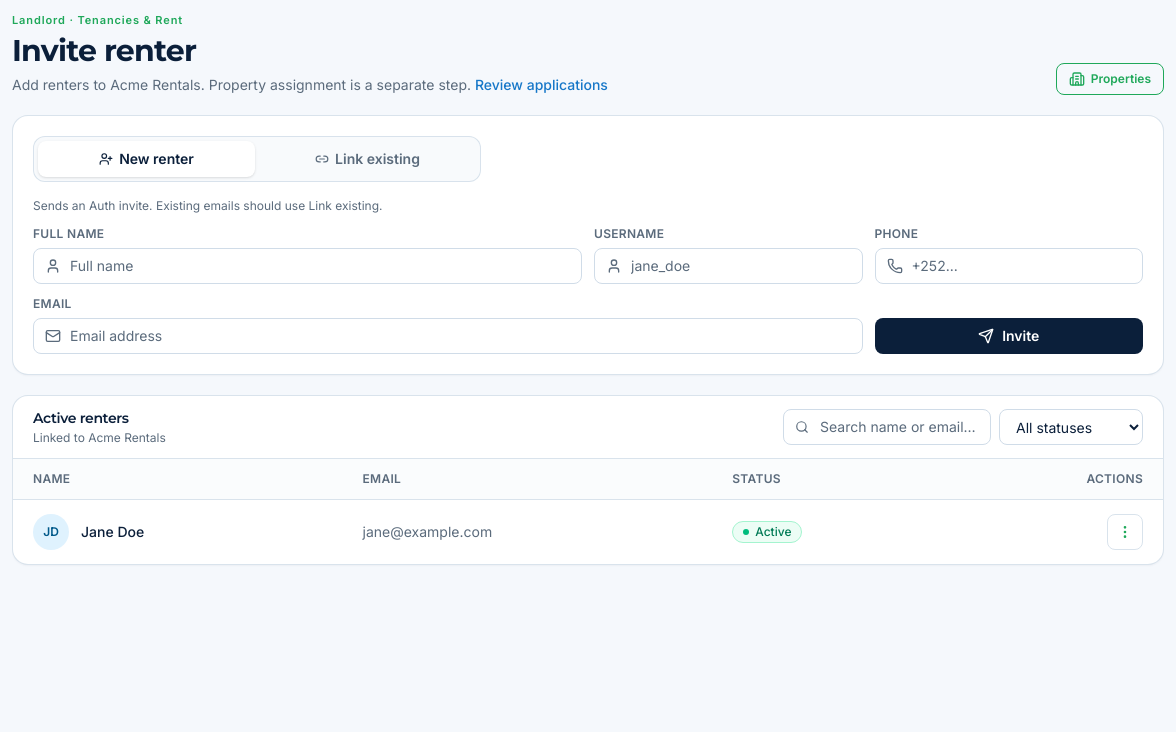
Test case: InviteRenterPage › opens row Actions menu with View, Edit, and Delete for landlord_admin
Check: the text "Jane Doe" is shown, box [81, 522, 144, 542]
Click the button named "actions for jane doe" at (1125, 532), box [1107, 514, 1143, 550]
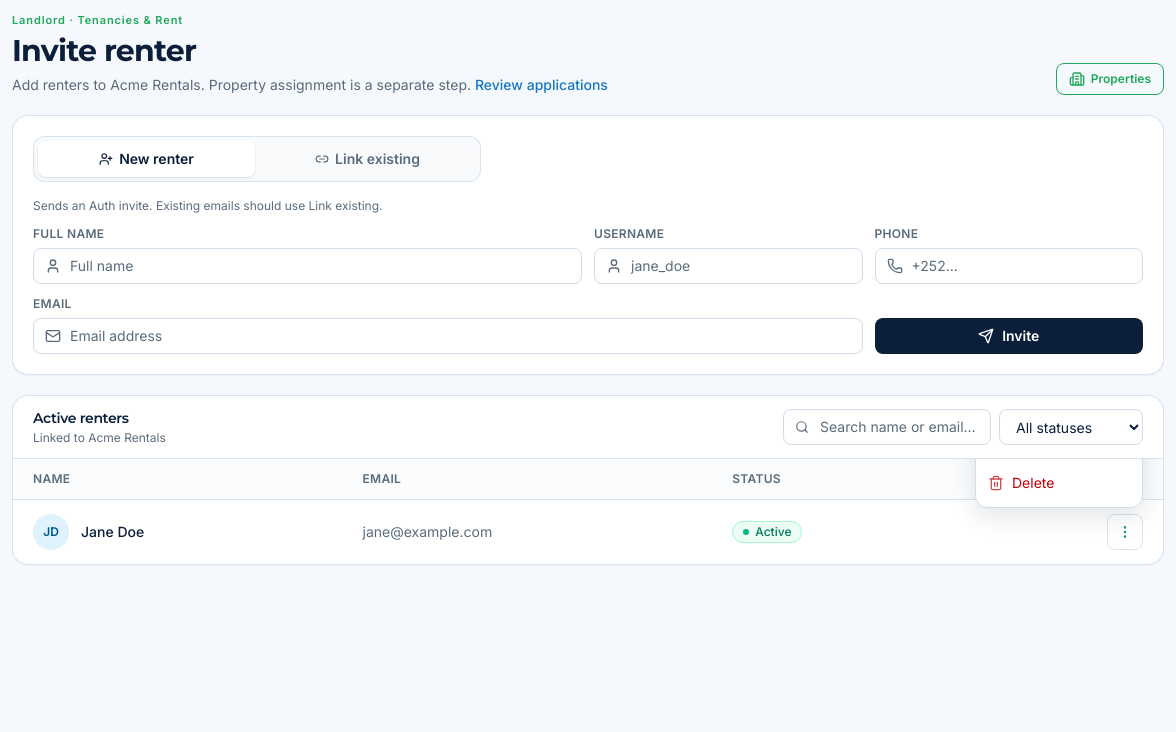
Check: the menu item "Delete" is shown, box [976, 462, 1142, 502]
